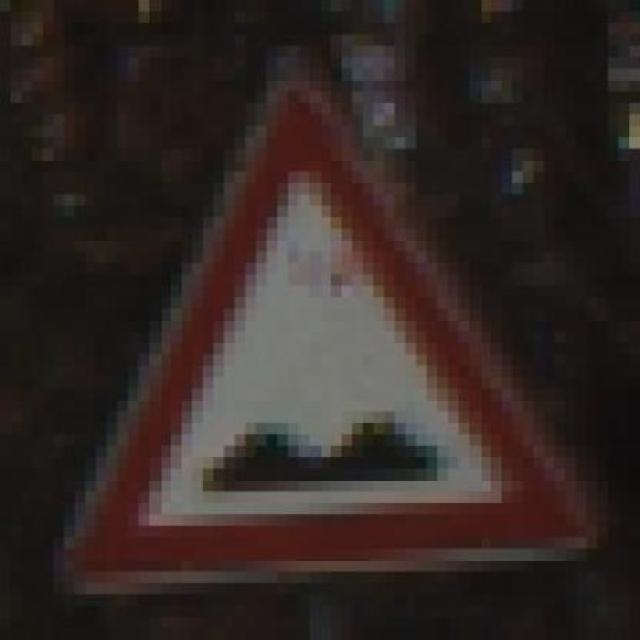Uneven Road: (38, 80, 594, 582)
